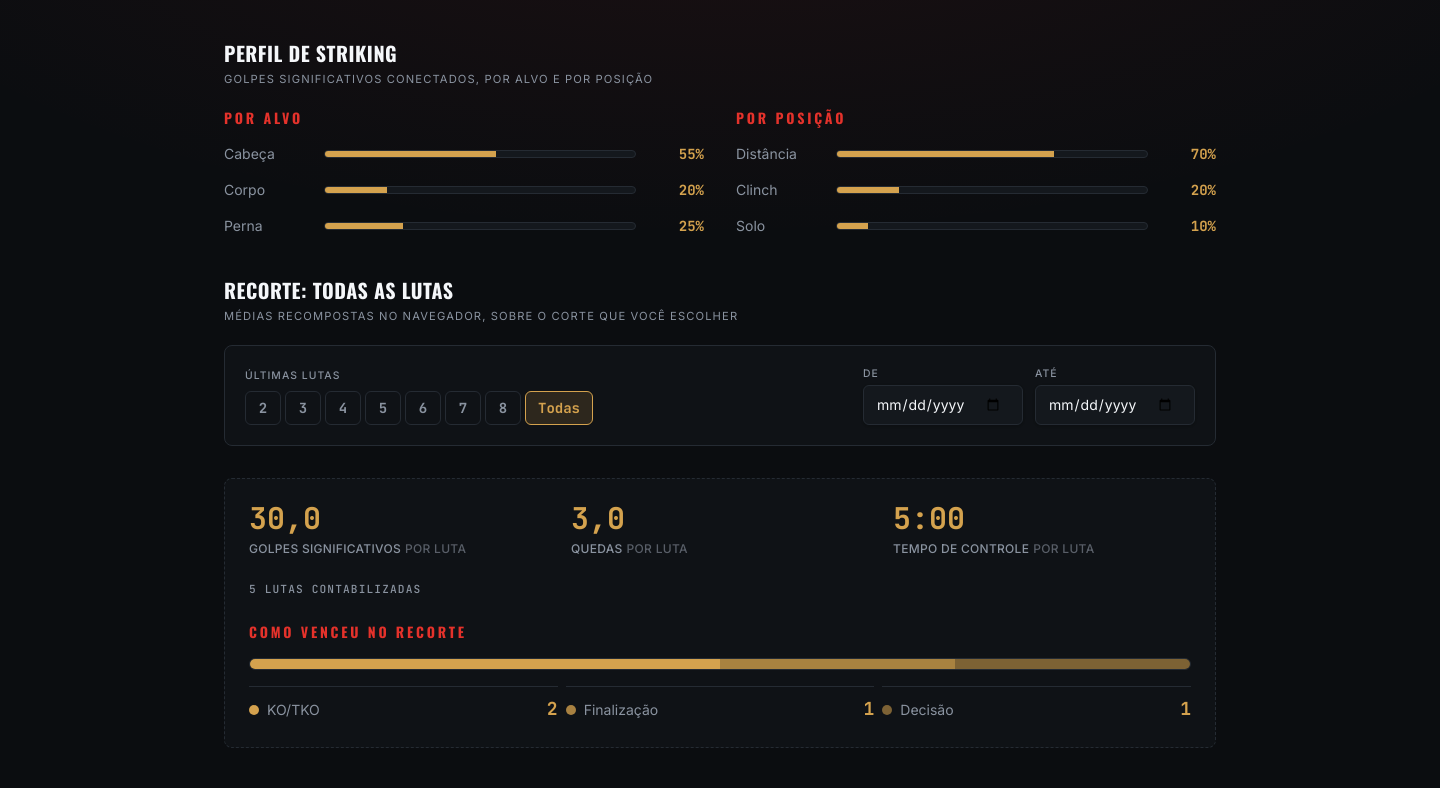
Test: FighterPage — recorte de últimas N lutas › recorta por período de datas (De/Até)
This screenshot has width=1440, height=788.
(page scrolled)
Check: the text "5 lutas contabilizadas" is shown, box x1=249 y1=582 x2=421 y2=596
Type "2018-01-01" into the date field named "data inicial" at (943, 405), box x1=863 y1=385 x2=1023 y2=425
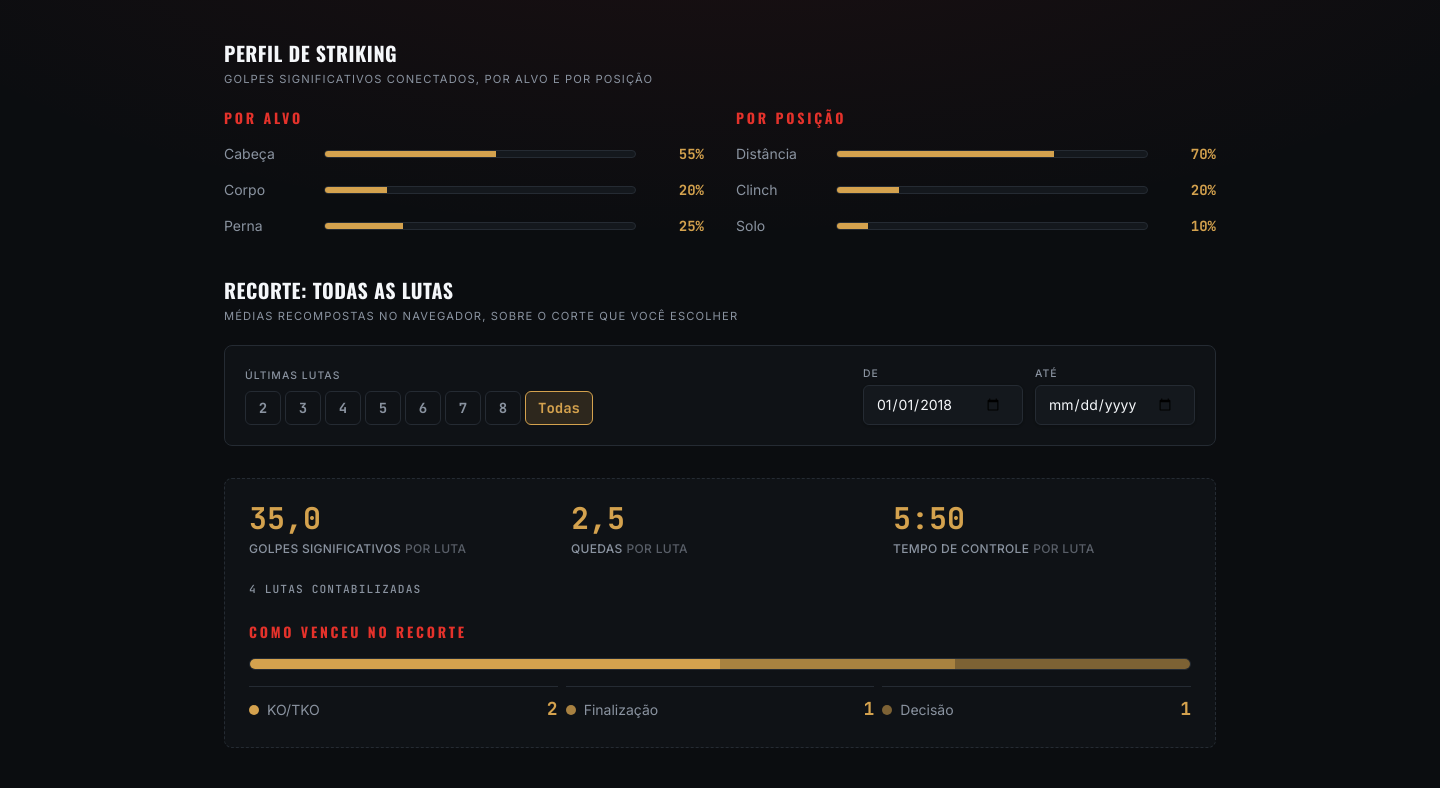
Type "2020-12-31" into the date field named "data final" at (1115, 405), box x1=1035 y1=385 x2=1195 y2=425
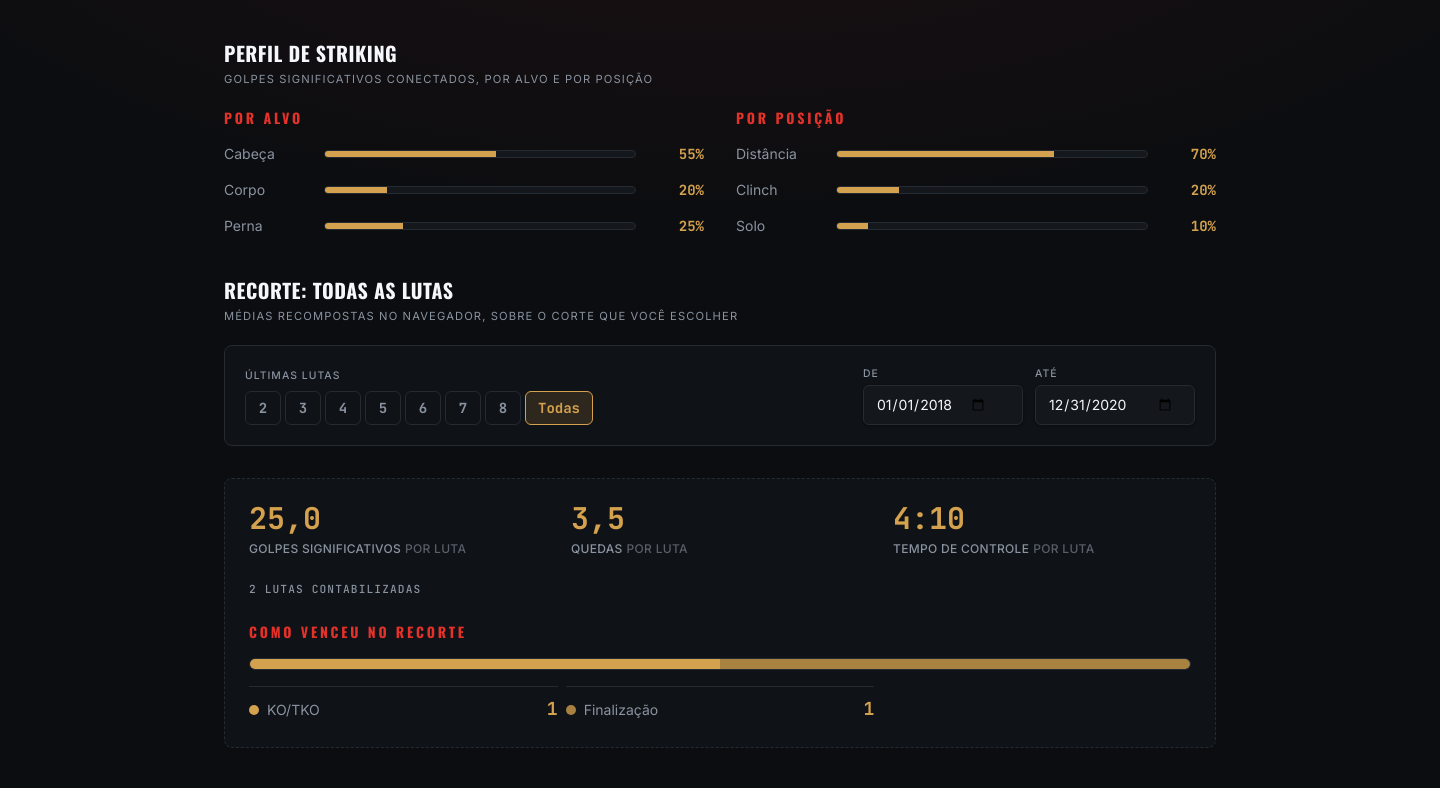
Check: the text "2 lutas contabilizadas" is shown, box x1=249 y1=582 x2=421 y2=596
Check: the text "25,0" is shown, box x1=249 y1=498 x2=321 y2=538
